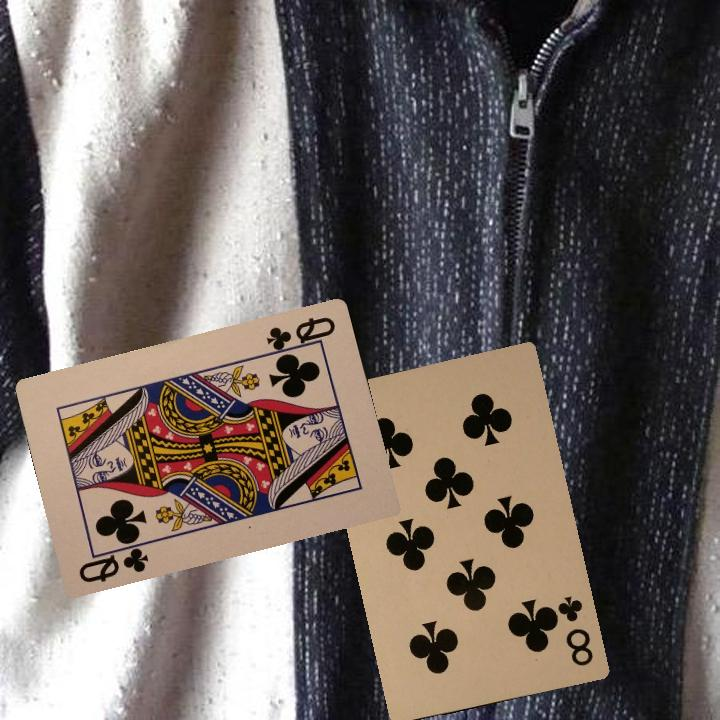8c: (551, 592, 596, 669)
Qc: (74, 537, 151, 585), (262, 312, 338, 358)
